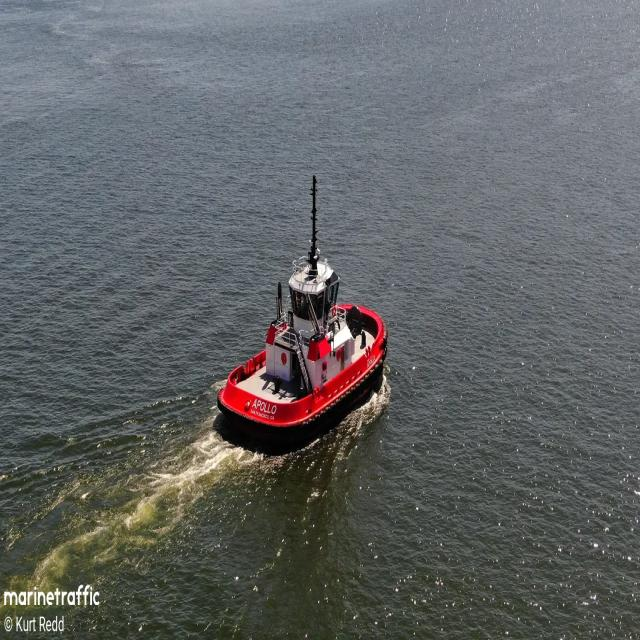Tug: (218, 179, 388, 442)
